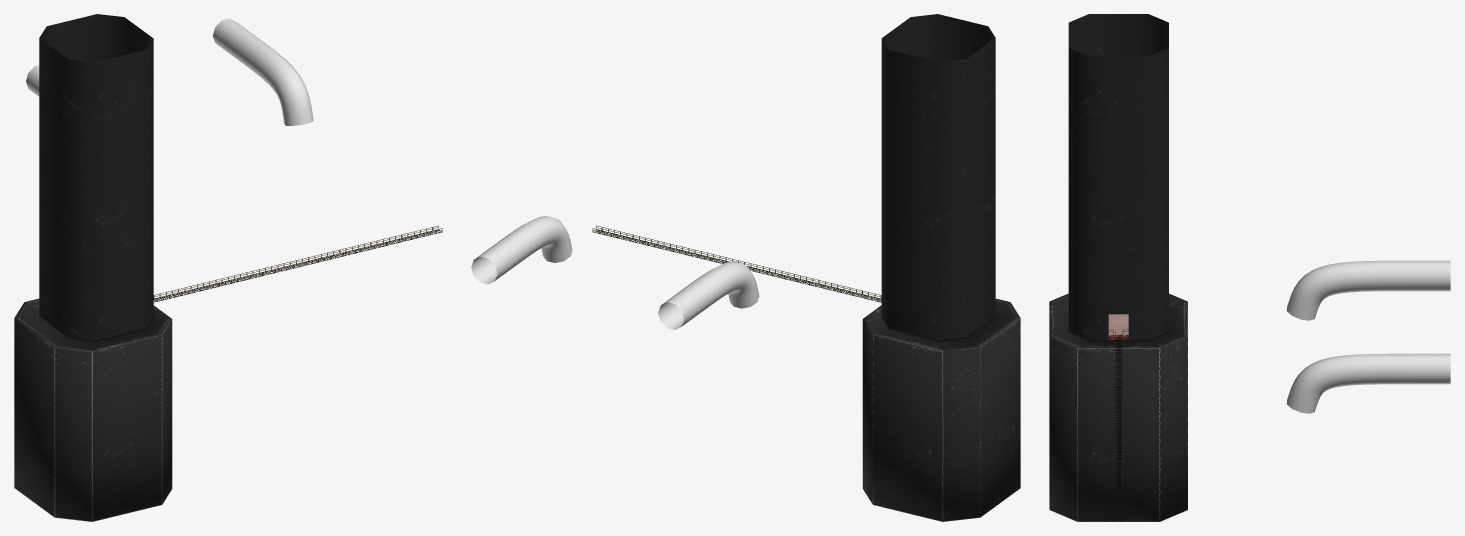
The model's file is ElevatorRoomCombined.fbx.
3 renders of one model, left to right at view 1: azimuth 30°, elevation 25°; view 2: azimuth 150°, elevation 25°; view 3: azimuth 270°, elevation 25°, orthographic. The views are drawn at different scales.
Visible parts, largest first — view 1: Cube.004, NurbsPath.002, CatWalkBase; view 2: Cube.004, NurbsPath.003, NurbsPath.002, CatWalkBase; view 3: Cube.004, NurbsPath.003, NurbsPath.002, CatWalkBase, Cube.
Part boxes in pixels (x1=…): Cube.004: x1=14, y1=14, x2=172, y2=521; NurbsPath.002: x1=212, y1=18, x2=313, y2=125; CatWalkBase: x1=153, y1=225, x2=442, y2=302; Cube.004: x1=862, y1=14, x2=1020, y2=521; NurbsPath.003: x1=658, y1=261, x2=759, y2=329; NurbsPath.002: x1=471, y1=216, x2=572, y2=284; CatWalkBase: x1=592, y1=225, x2=881, y2=302; Cube.004: x1=1049, y1=14, x2=1187, y2=521; NurbsPath.003: x1=1286, y1=260, x2=1450, y2=320; NurbsPath.002: x1=1286, y1=353, x2=1450, y2=413; CatWalkBase: x1=1115, y1=331, x2=1122, y2=489; Cube: x1=1108, y1=314, x2=1128, y2=339.
Bounding box in the file's own units: 131 × 139 × 110.
